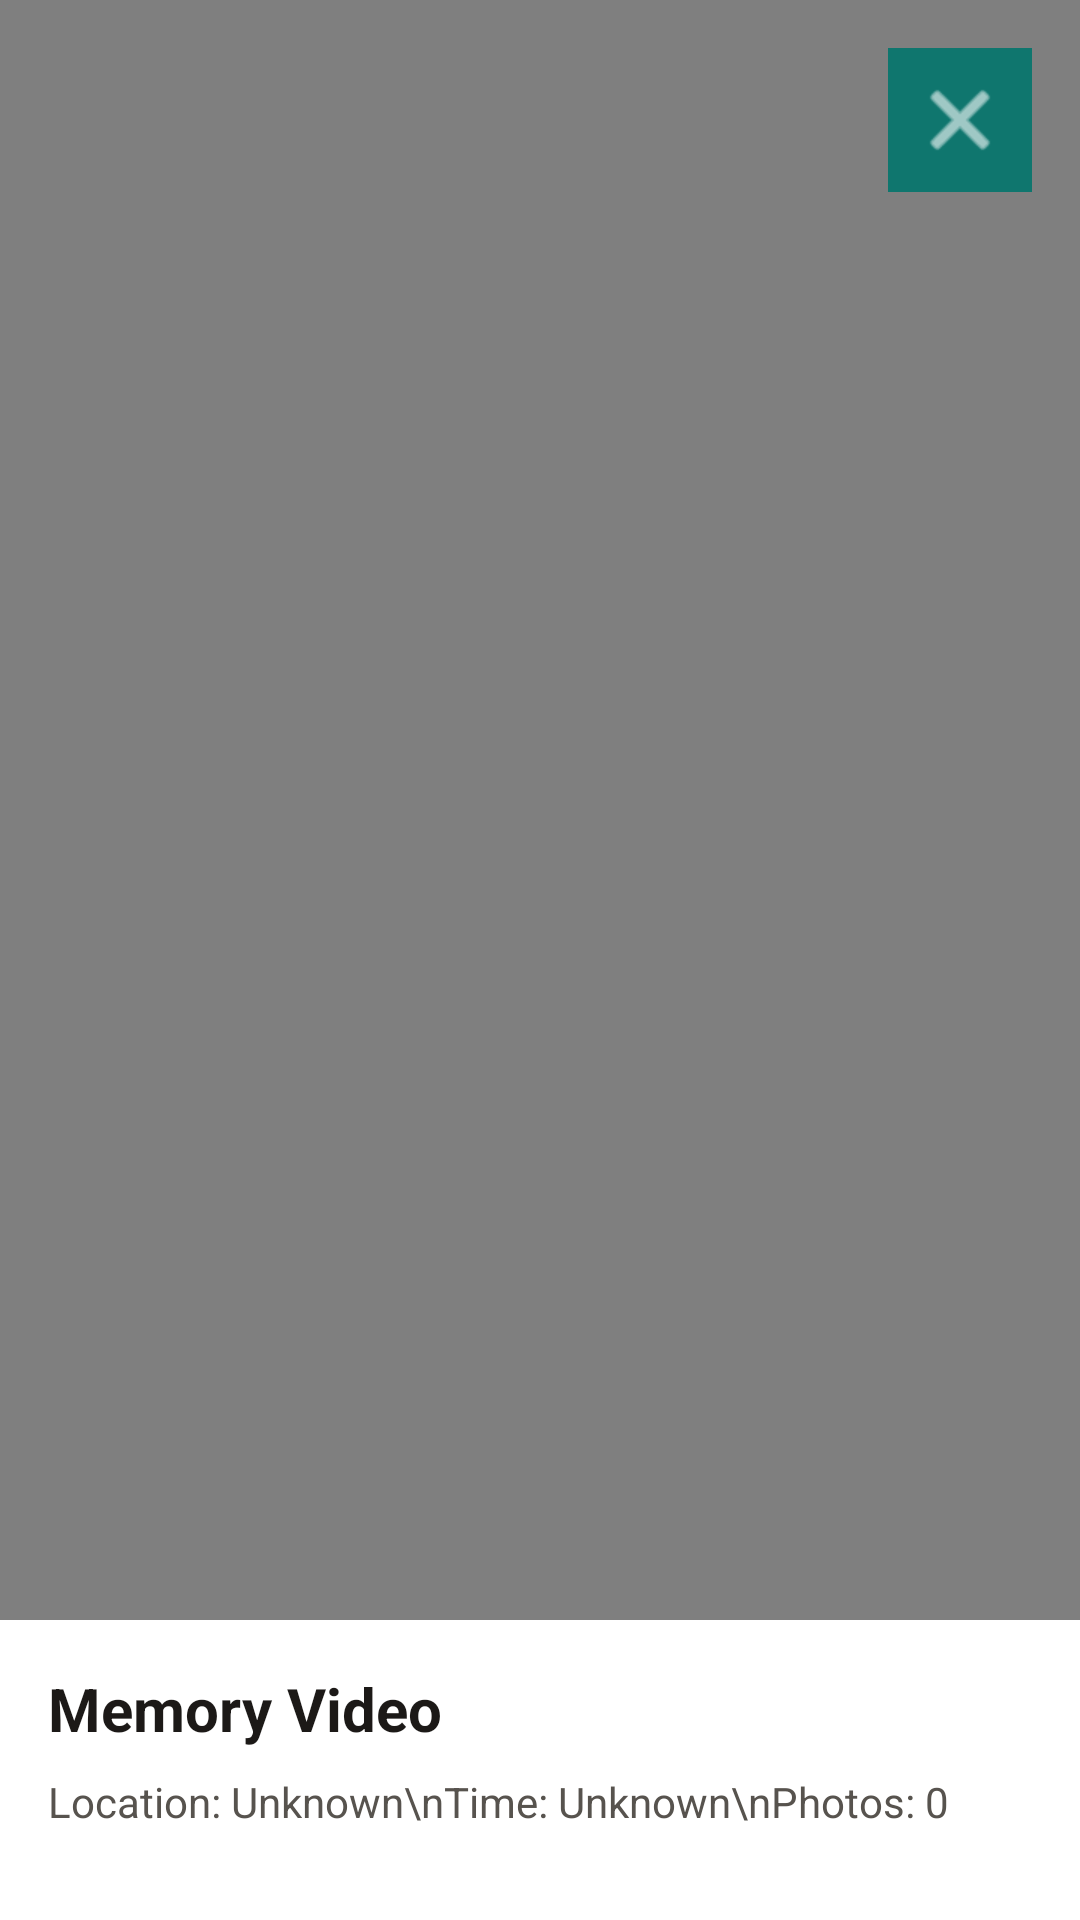

Named icons in this screenshot (1080 × 1920) and their bounding boxes, (x1, y1, x2, y2):
Close video: (888, 48, 1032, 192)
